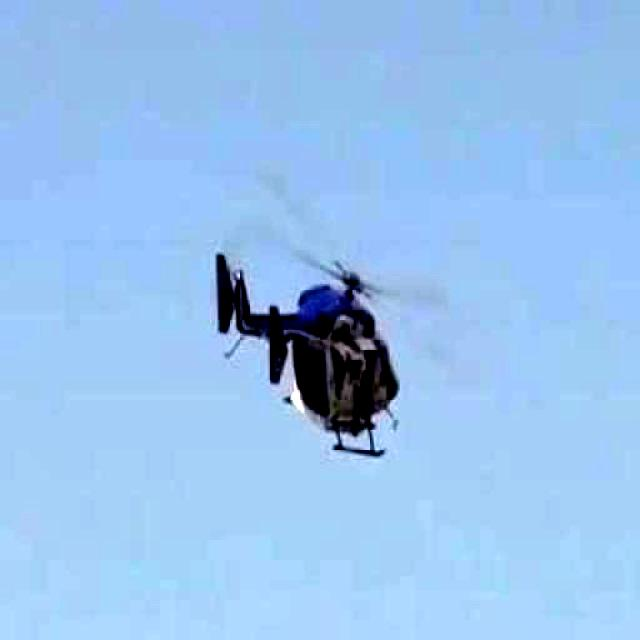drone: (182, 185, 516, 491)
